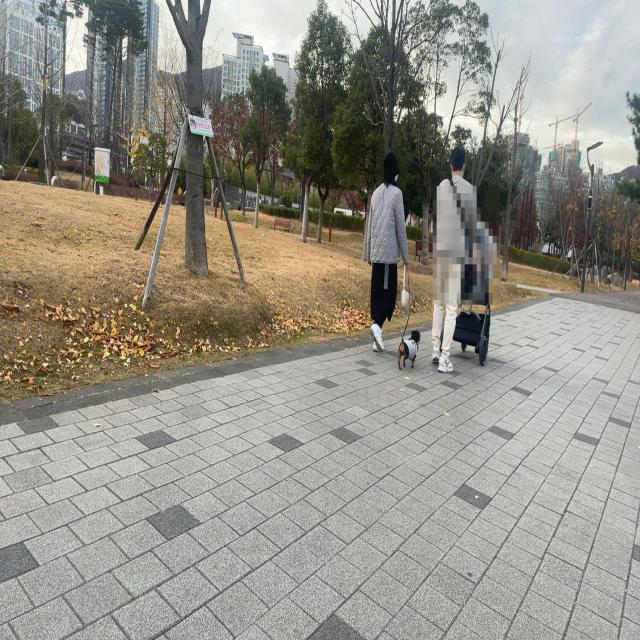Leashed_Dog: (387, 256, 420, 372)
